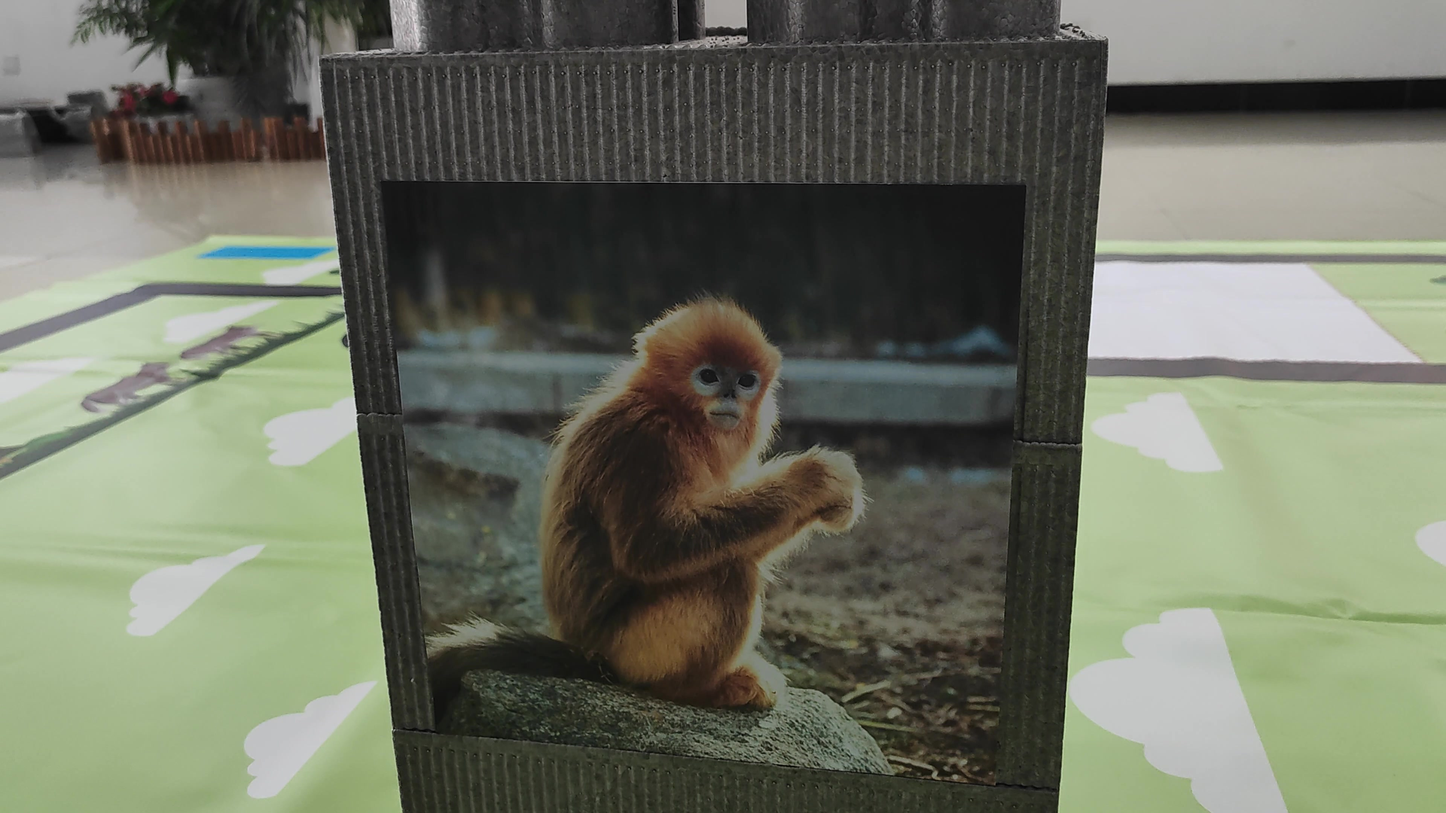monkey: (409, 240, 870, 755)
